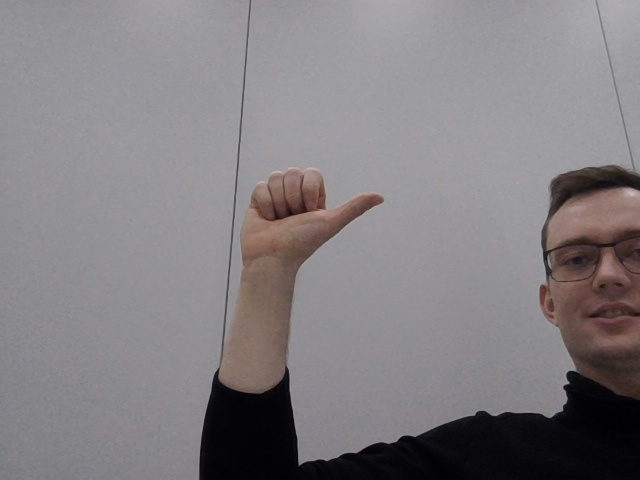left: (220, 145, 401, 301)
